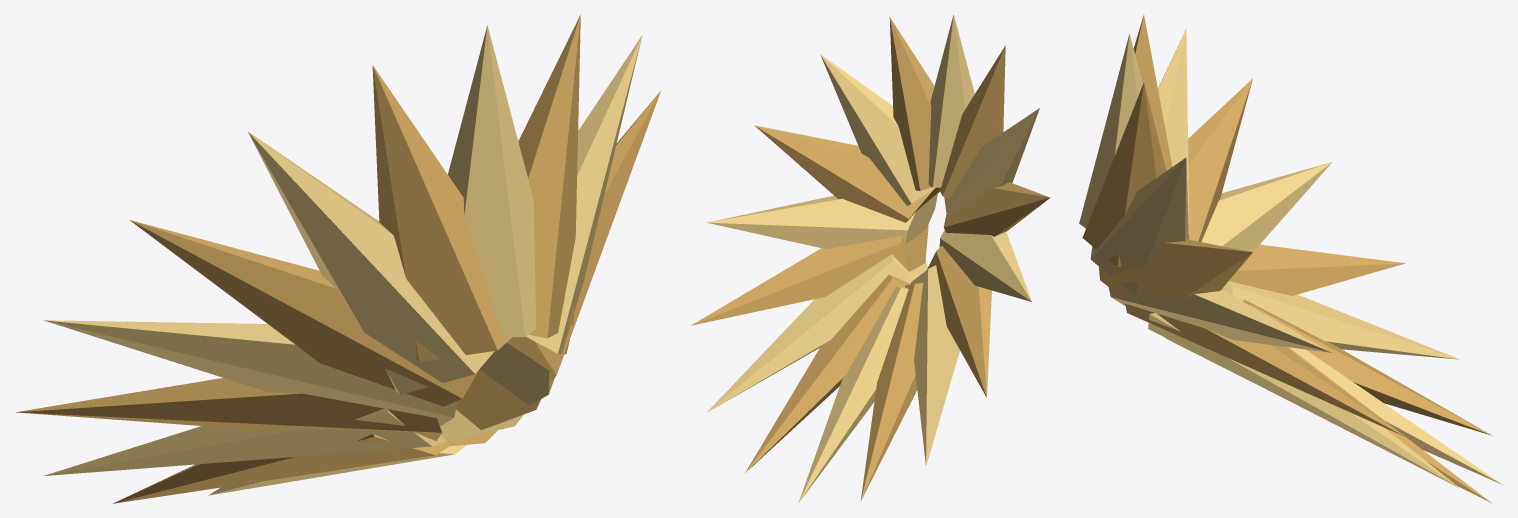
Rendered from SM_Keeper_Ammit_Mane.fbx.
The picture shows the model from 3 angles, left to right: view 1: azimuth 30°, elevation 25°; view 2: azimuth 150°, elevation 25°; view 3: azimuth 270°, elevation 25°; orthographic projection. The views are drawn at different scales.
Parts seen in each view (by area): view 1: SM_Keeper_Ammit_Mane; view 2: SM_Keeper_Ammit_Mane; view 3: SM_Keeper_Ammit_Mane.
Part boxes in pixels (x1,y1,x2,y2): SM_Keeper_Ammit_Mane: [16, 14, 661, 503]; SM_Keeper_Ammit_Mane: [691, 14, 1049, 502]; SM_Keeper_Ammit_Mane: [1079, 14, 1502, 503].
Bounding box in the file's own units: 2.69 × 2.97 × 2.52.
